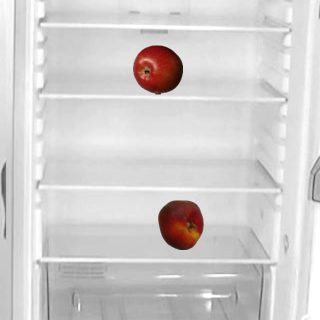Apple Braeburn: (132, 44, 182, 94)
Nectarine Flat: (155, 199, 205, 249)
